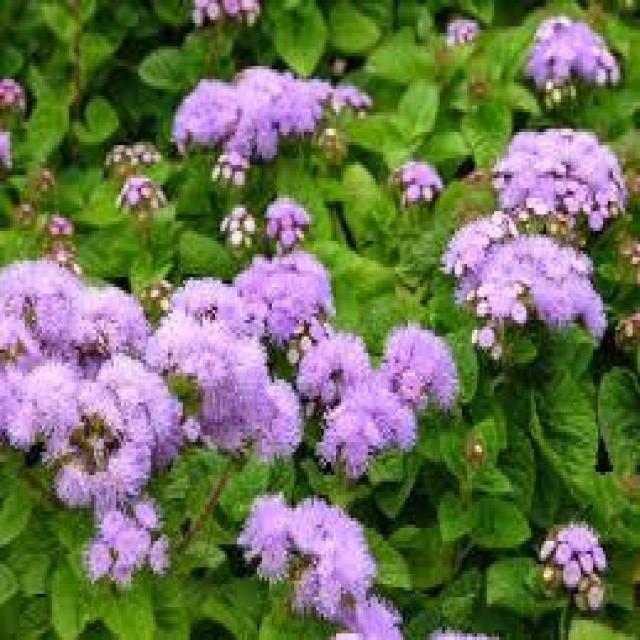organic waste: (5, 246, 188, 516), (153, 256, 334, 467), (289, 323, 462, 475), (166, 61, 354, 167), (246, 487, 379, 612), (492, 125, 630, 221), (522, 15, 626, 107)
